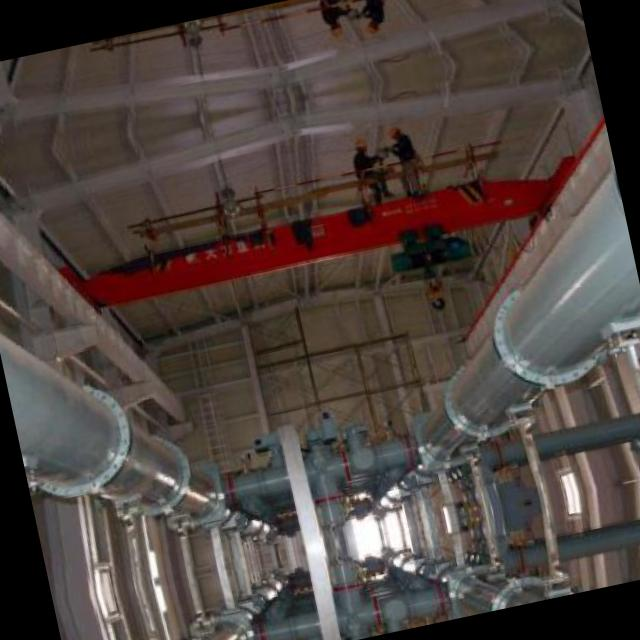helmet: (351, 133, 369, 157), (326, 16, 344, 40), (364, 16, 382, 38), (386, 119, 404, 140)
